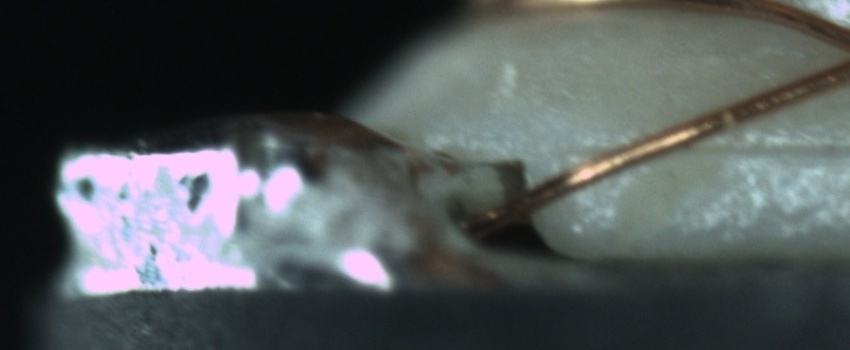DL: (599, 115, 849, 181)
